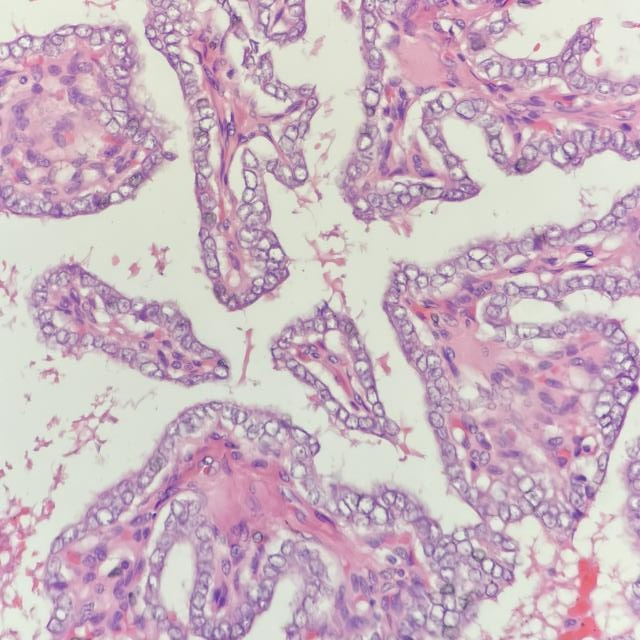TC: (262, 236, 290, 271), (452, 94, 481, 126), (460, 241, 493, 268), (356, 82, 385, 112), (259, 415, 286, 446), (349, 130, 380, 157), (207, 356, 234, 385), (376, 483, 400, 514), (225, 401, 251, 429), (362, 43, 389, 69), (379, 415, 403, 444), (355, 6, 382, 31), (351, 354, 375, 382), (361, 189, 383, 219), (424, 347, 447, 375), (273, 133, 301, 156), (486, 289, 514, 311), (192, 164, 214, 192), (402, 257, 426, 282), (440, 440, 461, 468), (405, 176, 426, 204), (452, 540, 477, 563), (442, 164, 472, 183), (284, 425, 312, 445), (494, 497, 514, 525), (425, 408, 448, 430), (343, 486, 361, 514), (443, 188, 465, 208), (259, 555, 291, 568), (239, 169, 258, 190)
